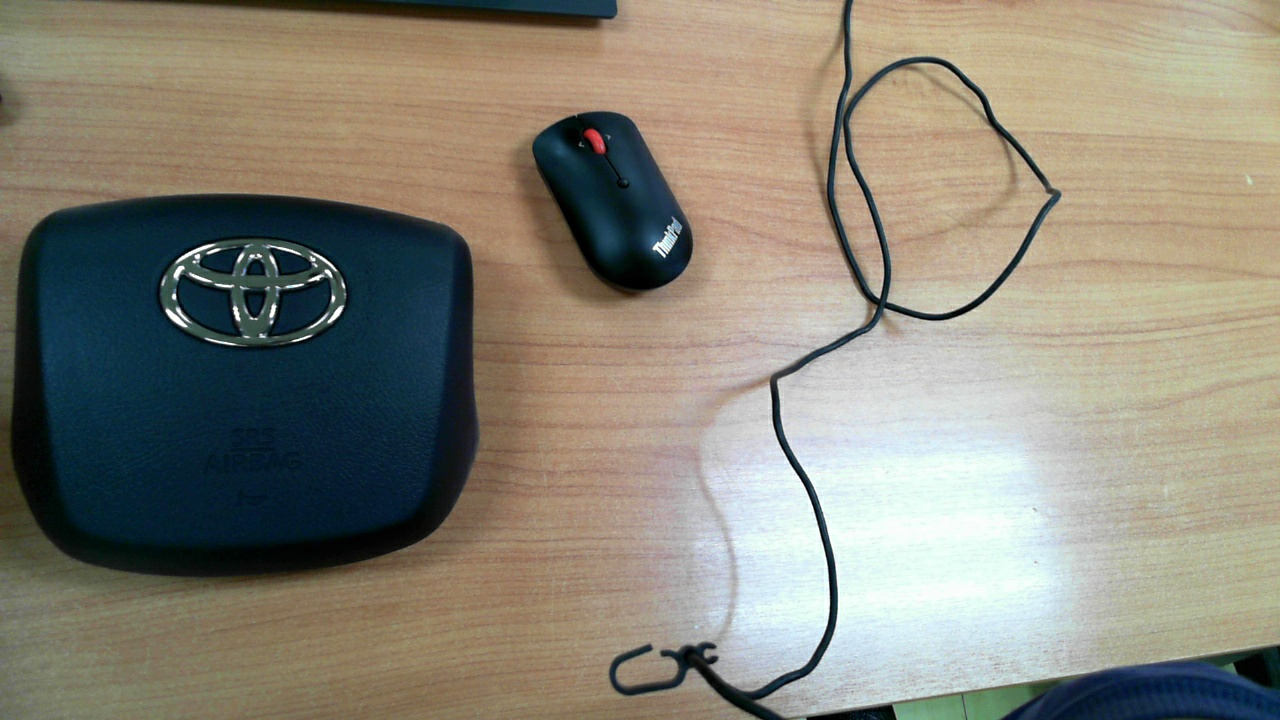Airbag: (0, 165, 496, 606)
